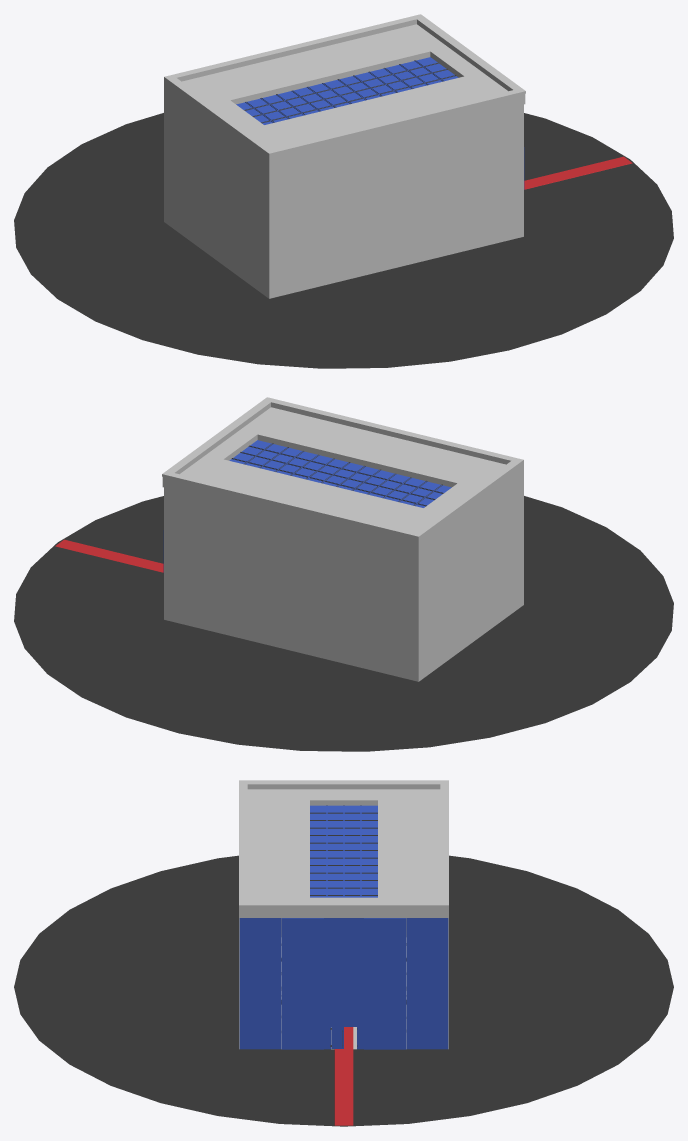
The model's file is building.fbx.
3 renders of one model, top to bottom at view 1: azimuth 30°, elevation 25°; view 2: azimuth 150°, elevation 25°; view 3: azimuth 270°, elevation 25°, orthographic.
Parts seen in each view (by area): view 1: SM_ground, SM_building, SM_Plane; view 2: SM_ground, SM_building, SM_Plane; view 3: SM_ground, SM_building, SM_Plane.
Boxes of the visible parts, x1,y1,x2,y2 form: SM_ground: [14, 113, 673, 368]; SM_building: [164, 14, 525, 298]; SM_Plane: [524, 156, 632, 189]; SM_ground: [14, 496, 673, 751]; SM_building: [162, 397, 523, 681]; SM_Plane: [55, 539, 163, 572]; SM_ground: [14, 855, 673, 1126]; SM_building: [239, 780, 448, 1049]; SM_Plane: [334, 1027, 353, 1125].
Size of the model in its own units: 7196 by 1770 by 7196.
